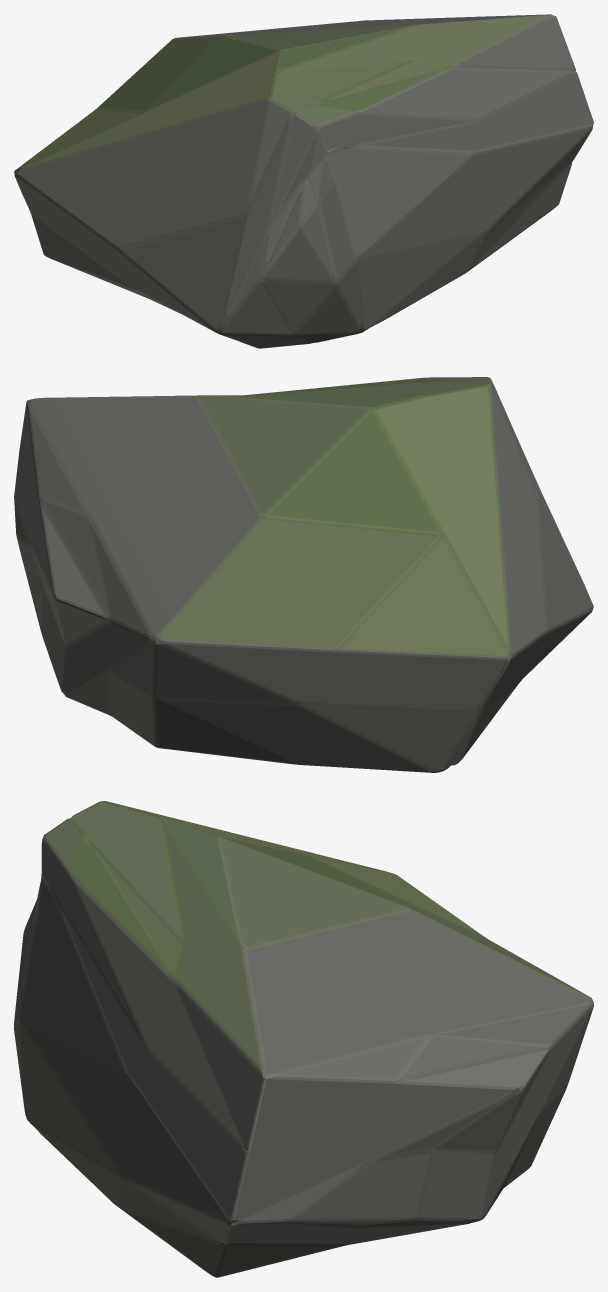
Rendered from rock_c.glb.
3 views of the same model, one above another, from view 1: azimuth 30°, elevation 25°; view 2: azimuth 150°, elevation 25°; view 3: azimuth 270°, elevation 25° (orthographic). The views are drawn at different scales.
Parts seen in each view (by area): view 1: rock_c; view 2: rock_c; view 3: rock_c.
Part boxes in pixels (x1,y1,x2,y2): rock_c: (14, 14, 593, 348); rock_c: (14, 377, 593, 772); rock_c: (14, 801, 593, 1277).
Size of the model in its own units: 1.43 by 0.6413 by 1.13.
